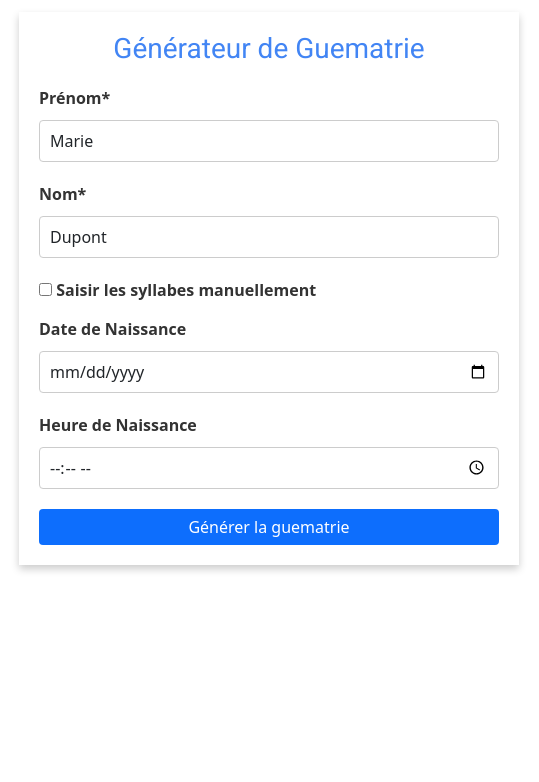
Test: GuematrieFormComponent › shows the manual fields only when the checkbox is selected
Click the checkbox with id "manualSyllables" at [46, 289], box [39,283,52,296]
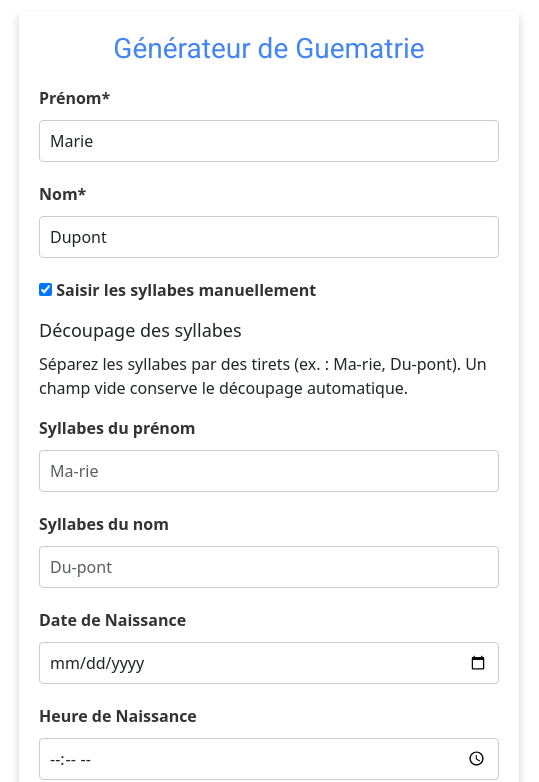
Expected: the field with id "firstNameSyllables" is shown, [39,450,499,492]
